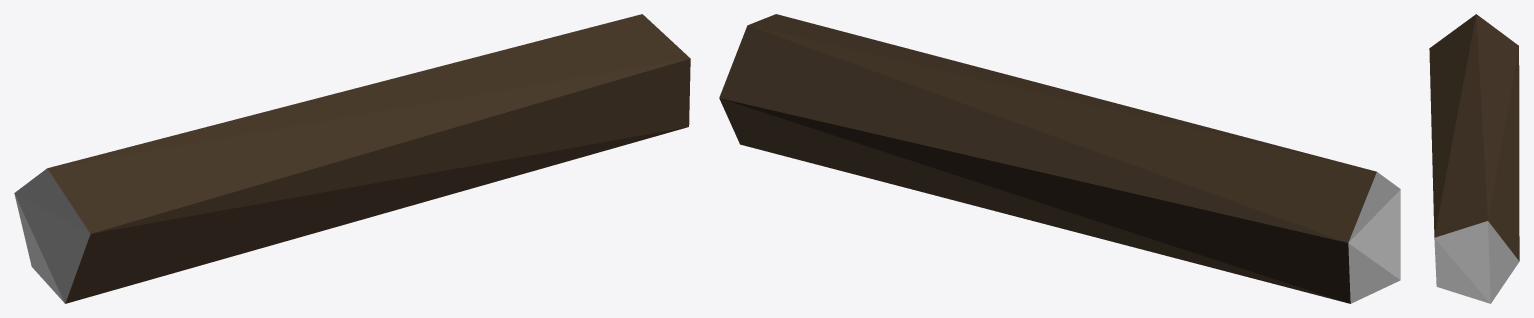
The model's file is NC_LOB_LOG1.OBJ.
The picture shows the model from 3 angles, left to right: view 1: azimuth 30°, elevation 25°; view 2: azimuth 150°, elevation 25°; view 3: azimuth 270°, elevation 25°; orthographic projection. The views are drawn at different scales.
Visible parts, largest first — view 1: NC_LOB_LOG1; view 2: NC_LOB_LOG1; view 3: NC_LOB_LOG1.
Boxes of the visible parts, x1,y1,x2,y2 form: NC_LOB_LOG1: (14,14,690,303); NC_LOB_LOG1: (719,14,1400,303); NC_LOB_LOG1: (1429,14,1519,303).
Size of the model in its own units: 1.61 by 0.3021 by 0.2894.
